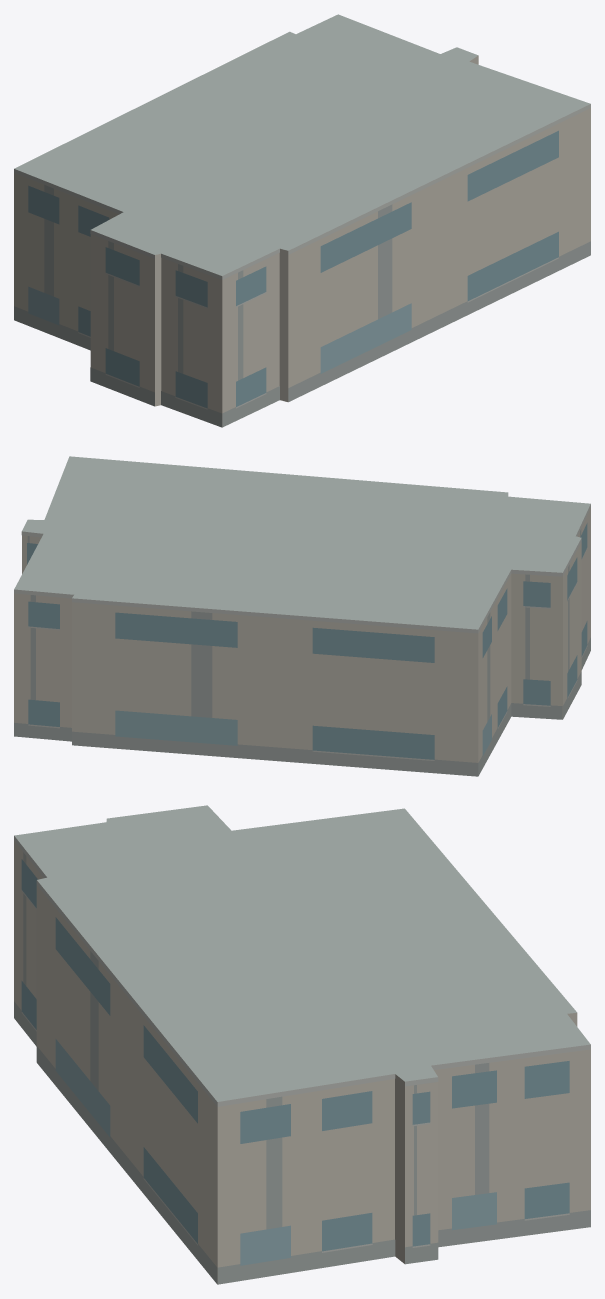
The model's file is survey-upis-32520837.glb.
The picture shows the model from 3 angles, top to bottom: view 1: azimuth 30°, elevation 25°; view 2: azimuth 150°, elevation 25°; view 3: azimuth 270°, elevation 25°; orthographic projection. The views are drawn at different scales.
Visible parts, largest first — view 1: survey-upis-32520837.tmp; view 2: survey-upis-32520837.tmp; view 3: survey-upis-32520837.tmp.
Boxes of the visible parts, left/top/right/bottom form: survey-upis-32520837.tmp: left=14, top=14, right=590, bottom=427; survey-upis-32520837.tmp: left=14, top=456, right=590, bottom=776; survey-upis-32520837.tmp: left=14, top=805, right=590, bottom=1284.
Size of the model in its own units: 31.9 by 9.15 by 26.21.
